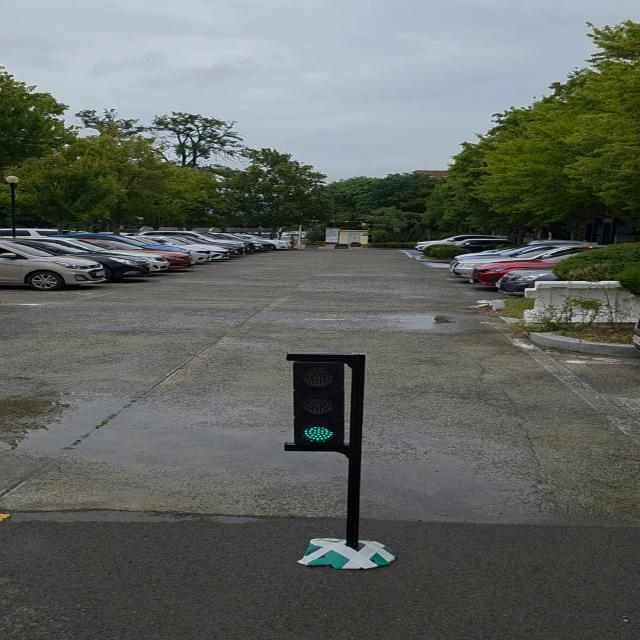green: (294, 351, 358, 452)
